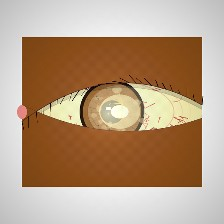corneal_ulcer: (86, 85, 153, 138)
